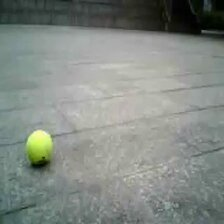tennis: (27, 129, 51, 162)
